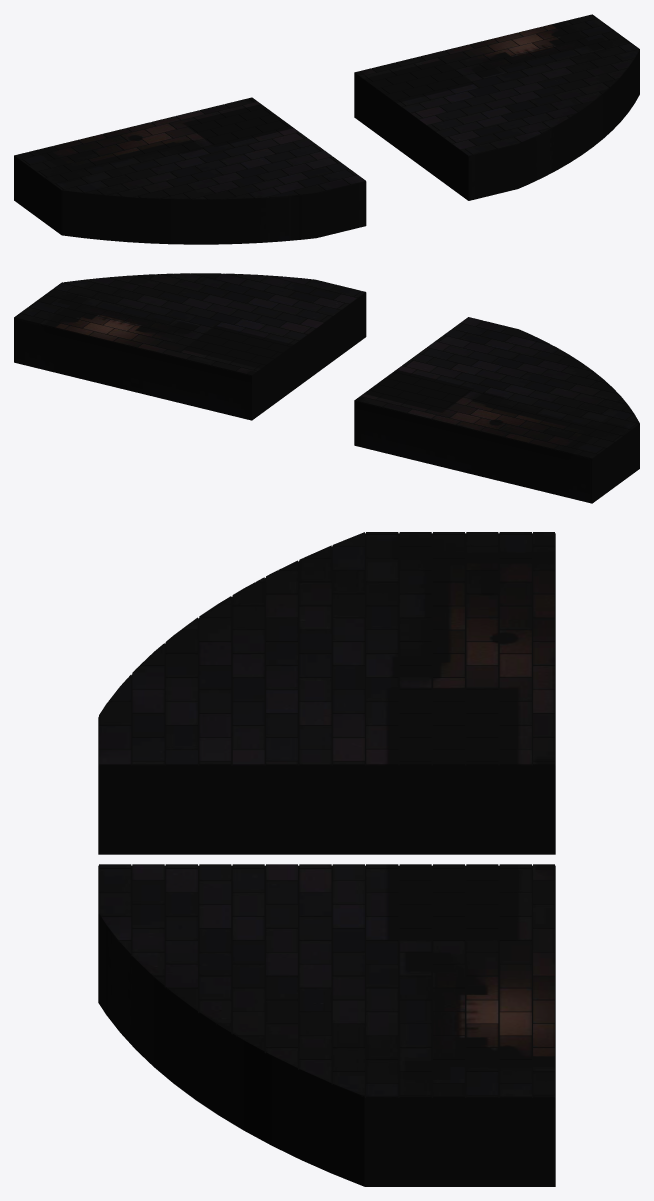
The model's file is entry_forecourt.glb.
3 views of the same model, one above another, from view 1: azimuth 30°, elevation 25°; view 2: azimuth 150°, elevation 25°; view 3: azimuth 270°, elevation 25° (orthographic). The views are drawn at different scales.
Parts seen in each view (by area): view 1: entry_forecourt.001; view 2: entry_forecourt.001; view 3: entry_forecourt.001.
Part boxes in pixels (<box>): entry_forecourt.001: <box>14,14,639,244</box>; entry_forecourt.001: <box>14,273,639,503</box>; entry_forecourt.001: <box>98,532,555,1186</box>.
Bounding box in the file's own units: 26 × 1.94 × 8.9.
Materials: 1 (1 with a texture image).
